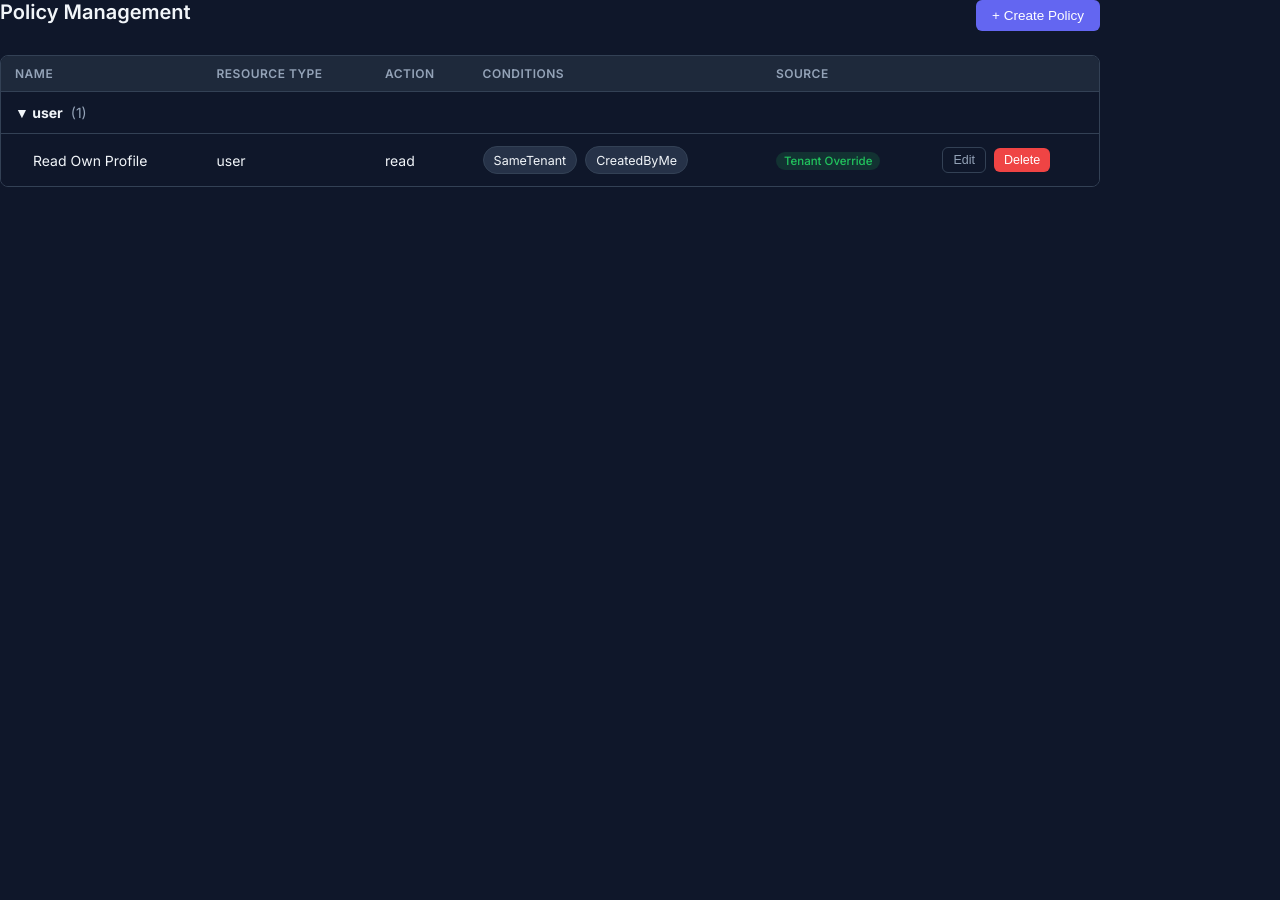
it: PolicyManagementPage › opens Create Policy modal when clicking + Create Policy
Check: the text "Read Own Profile" is shown, box [1,134,202,186]
Step 1. Click the button "+ Create Policy" → [1038, 16], box [976,0,1100,31]
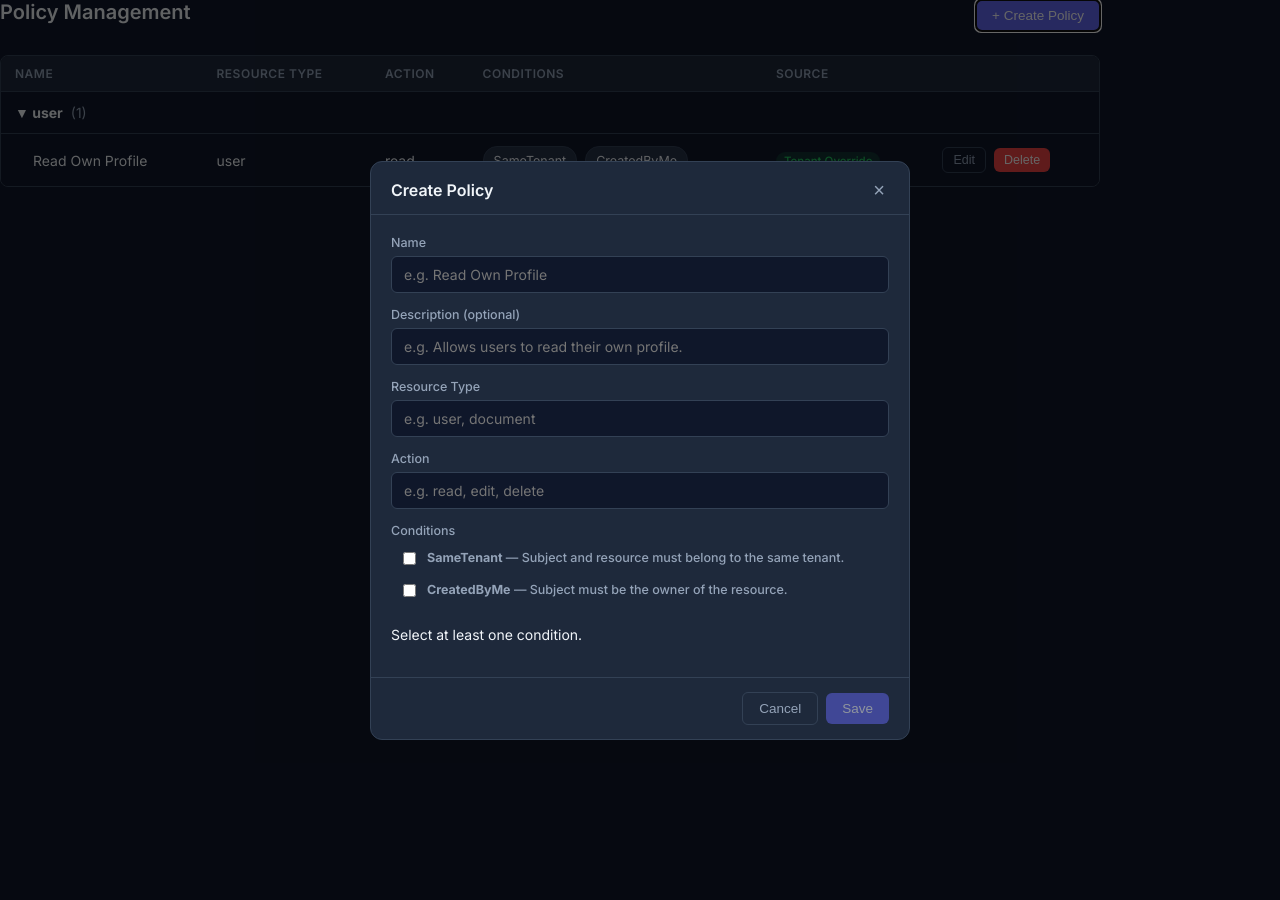
Check: the heading "Create Policy" is shown, box [391,180,493,200]
Check: the field with placeholder "e.g. user, document" is shown, box [391,400,889,436]
